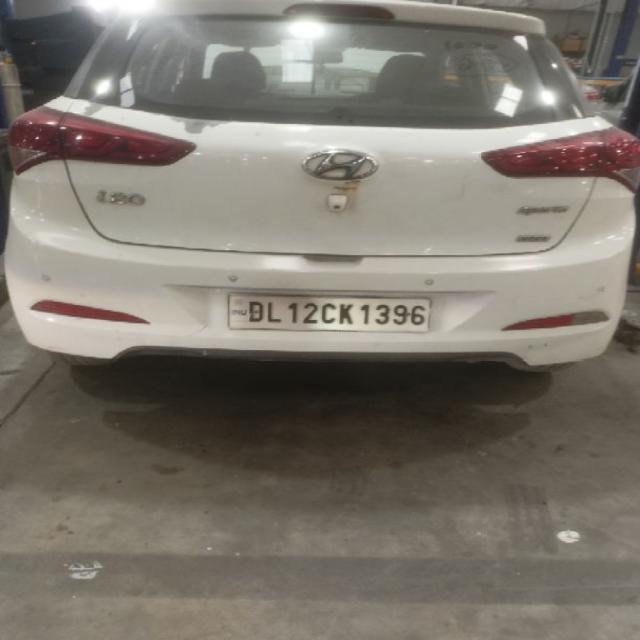license_plate: (226, 292, 432, 332)
